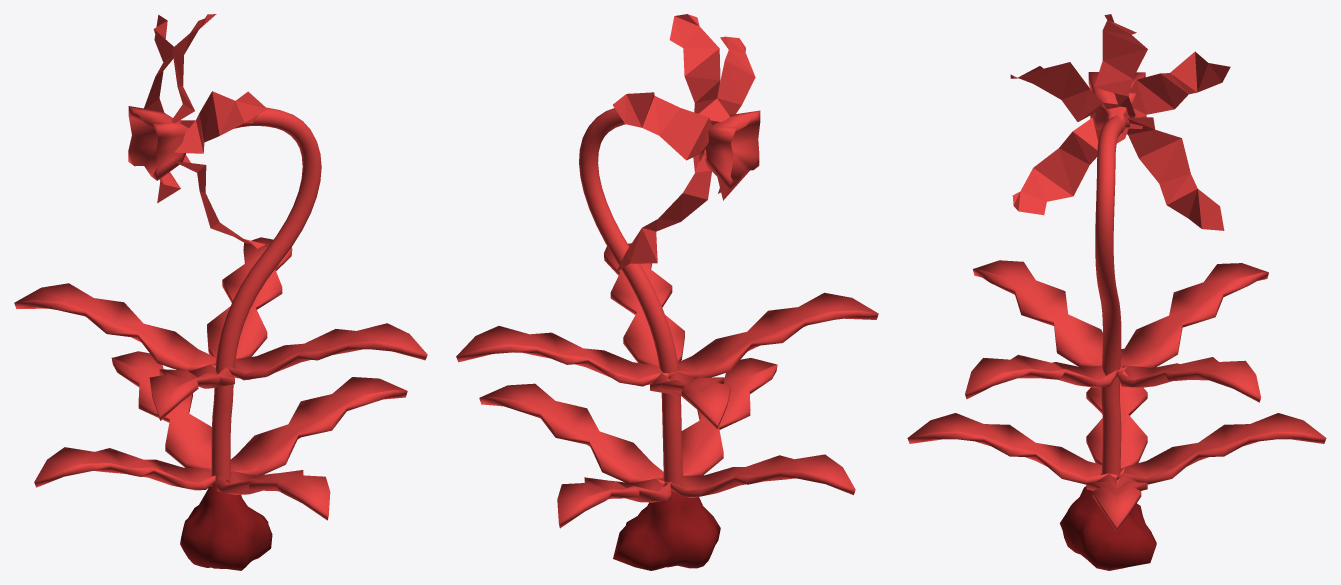
File: bloom flower diam aja.fbx
The picture shows the model from 3 angles, left to right: view 1: azimuth 30°, elevation 25°; view 2: azimuth 150°, elevation 25°; view 3: azimuth 270°, elevation 25°; orthographic projection. The views are drawn at different scales.
Parts seen in each view (by area): view 1: BézierCurve, Circle.002, rock, Plane.003, Plane.004, Plane.006, Plane, Plane.001, Plane.005, Cube.002, Plane.002, Plane.007; view 2: Circle.002, BézierCurve, rock, Plane.003, Plane.007, Plane.005, Plane.002, Plane.001, Plane.006, Cube.002, Plane, Plane.004; view 3: Circle.002, BézierCurve, Plane.004, Plane.007, rock, Plane, Plane.002, Plane.006, Plane.005, Plane.001, Plane.003, Cube.002.
Boxes of the visible parts, left/top/right/bottom form: BézierCurve: left=211, top=107, right=321, bottom=486; Circle.002: left=144, top=14, right=267, bottom=248; rock: left=180, top=479, right=272, bottom=570; Plane.003: left=230, top=377, right=407, bottom=475; Plane.004: left=14, top=283, right=216, bottom=371; Plane.006: left=229, top=323, right=427, bottom=380; Plane: left=111, top=351, right=211, bottom=470; Plane.001: left=34, top=447, right=215, bottom=490; Plane.005: left=207, top=237, right=292, bottom=374; Cube.002: left=128, top=106, right=188, bottom=180; Plane.002: left=217, top=470, right=330, bottom=520; Plane.007: left=149, top=363, right=234, bottom=420; Circle.002: left=613, top=14, right=755, bottom=272; BézierCurve: left=579, top=108, right=682, bottom=484; rock: left=613, top=491, right=720, bottom=570; Plane.003: left=479, top=383, right=679, bottom=493; Plane.007: left=669, top=292, right=878, bottom=378; Plane.005: left=456, top=326, right=668, bottom=386; Plane.002: left=658, top=358, right=777, bottom=490; Plane.001: left=664, top=454, right=855, bottom=497; Plane.006: left=604, top=243, right=684, bottom=380; Cube.002: left=705, top=110, right=760, bottom=188; Plane: left=557, top=477, right=671, bottom=528; Plane.004: left=650, top=370, right=730, bottom=429; Circle.002: left=1010, top=14, right=1230, bottom=230; BézierCurve: left=1095, top=115, right=1126, bottom=474; Plane.004: left=1105, top=263, right=1268, bottom=376; Plane.007: left=973, top=260, right=1128, bottom=376; rock: left=1060, top=473, right=1156, bottom=570; Plane: left=1117, top=413, right=1326, bottom=484; Plane.002: left=907, top=413, right=1124, bottom=484; Plane.006: left=965, top=354, right=1120, bottom=399; Plane.005: left=1116, top=357, right=1260, bottom=402; Plane.001: left=1086, top=348, right=1147, bottom=485; Plane.003: left=1086, top=472, right=1147, bottom=530; Cube.002: left=1088, top=72, right=1146, bottom=132.
Bounding box in the file's own units: 771 × 1091 × 771.
